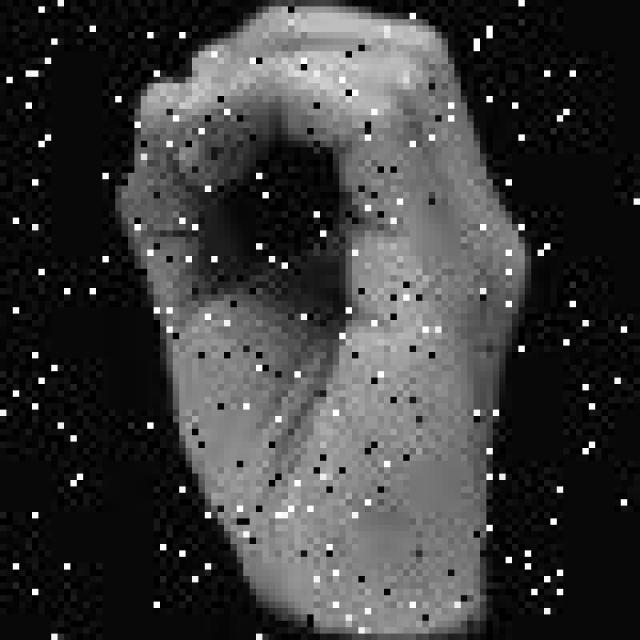O: (102, 0, 538, 608)
